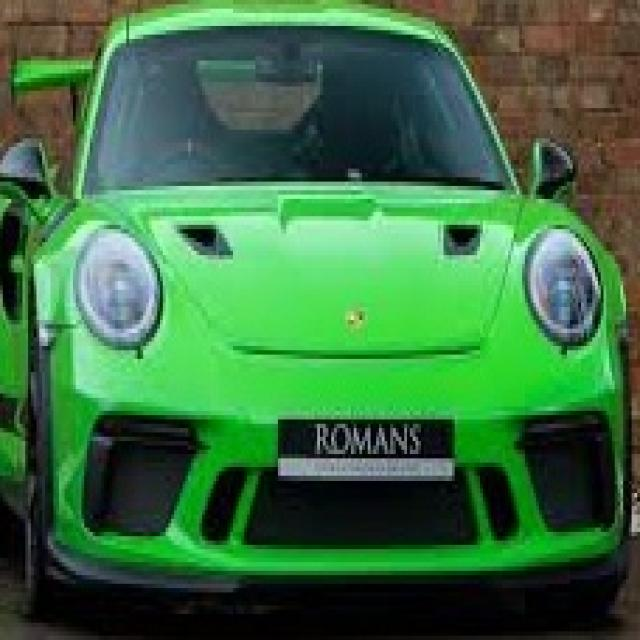green: (9, 3, 638, 562)
